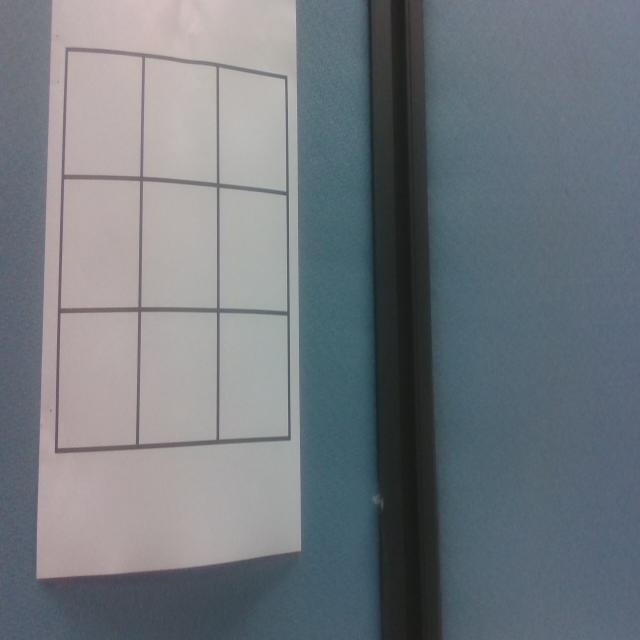null: (56, 311, 138, 451), (140, 312, 219, 447), (60, 179, 140, 311), (141, 180, 218, 311), (63, 50, 141, 179), (144, 57, 218, 184), (220, 312, 291, 443), (219, 64, 288, 194), (220, 188, 288, 315)
table: (55, 41, 293, 451)
